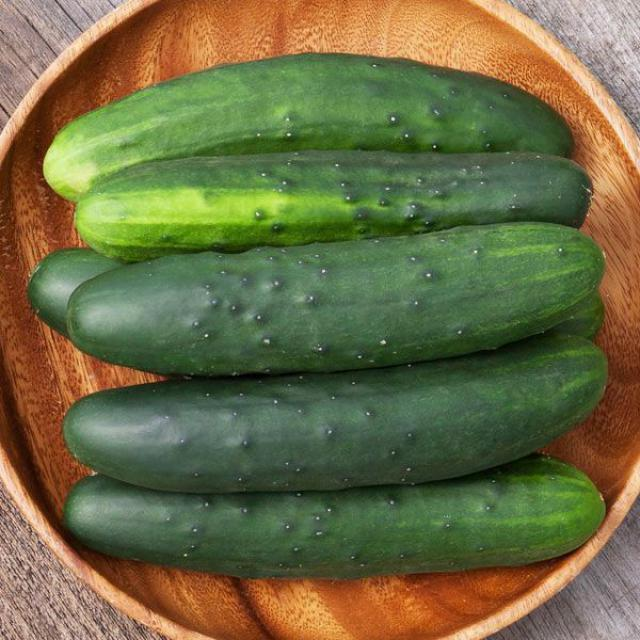cucumber: (64, 221, 604, 382), (55, 344, 622, 497), (41, 46, 578, 204), (59, 462, 610, 584), (70, 149, 598, 256)
